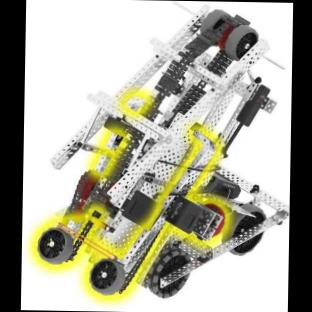Robot: (36, 5, 288, 297)
